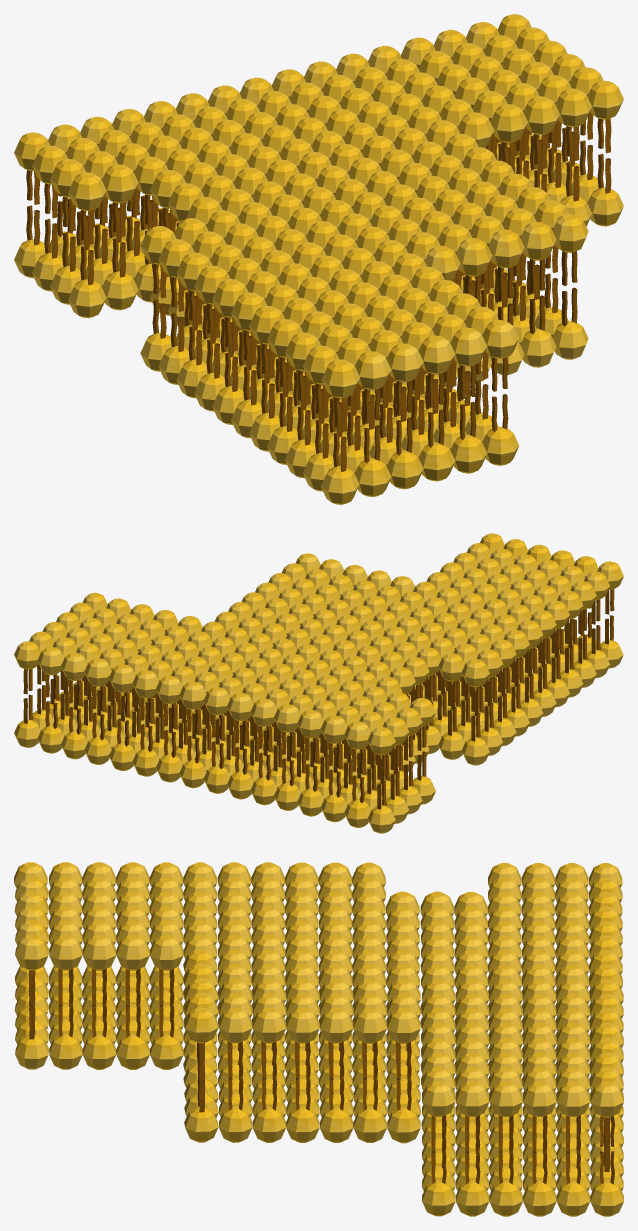
File: Membrana.fbx
The picture shows the model from 3 angles, top to bottom: view 1: azimuth 30°, elevation 25°; view 2: azimuth 150°, elevation 25°; view 3: azimuth 270°, elevation 25°; orthographic projection. The views are drawn at different scales.
Parts seen in each view (by area): view 1: polySurface576; view 2: polySurface576; view 3: polySurface576.
Part boxes in pixels (left/top/right/bottom): polySurface576: left=14, top=14, right=623, bottom=504; polySurface576: left=14, top=533, right=623, bottom=833; polySurface576: left=14, top=862, right=623, bottom=1216.
Size of the model in its own units: 7.01 by 1.81 by 7.73.
2 materials, 2 textured.
